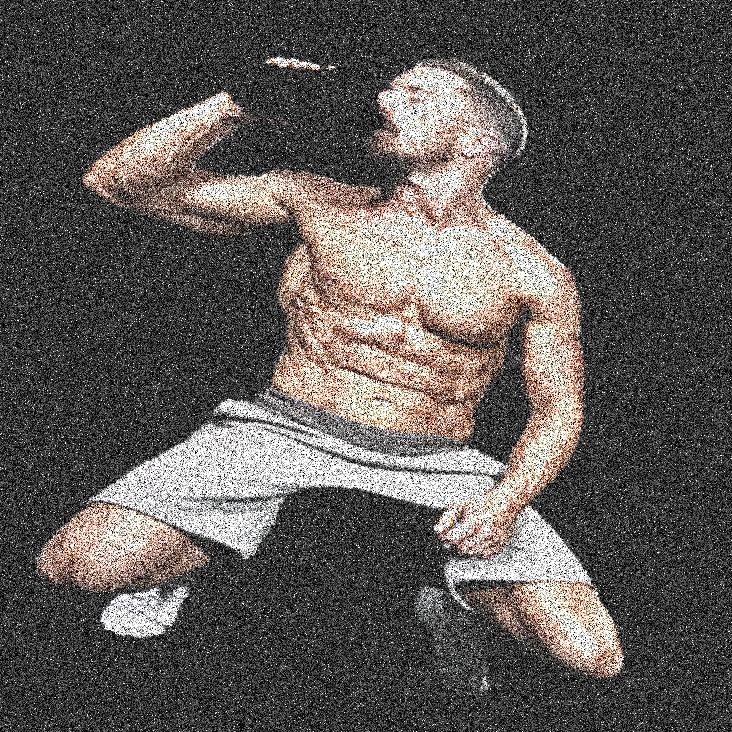Pessoa: (336, 0, 534, 731)
